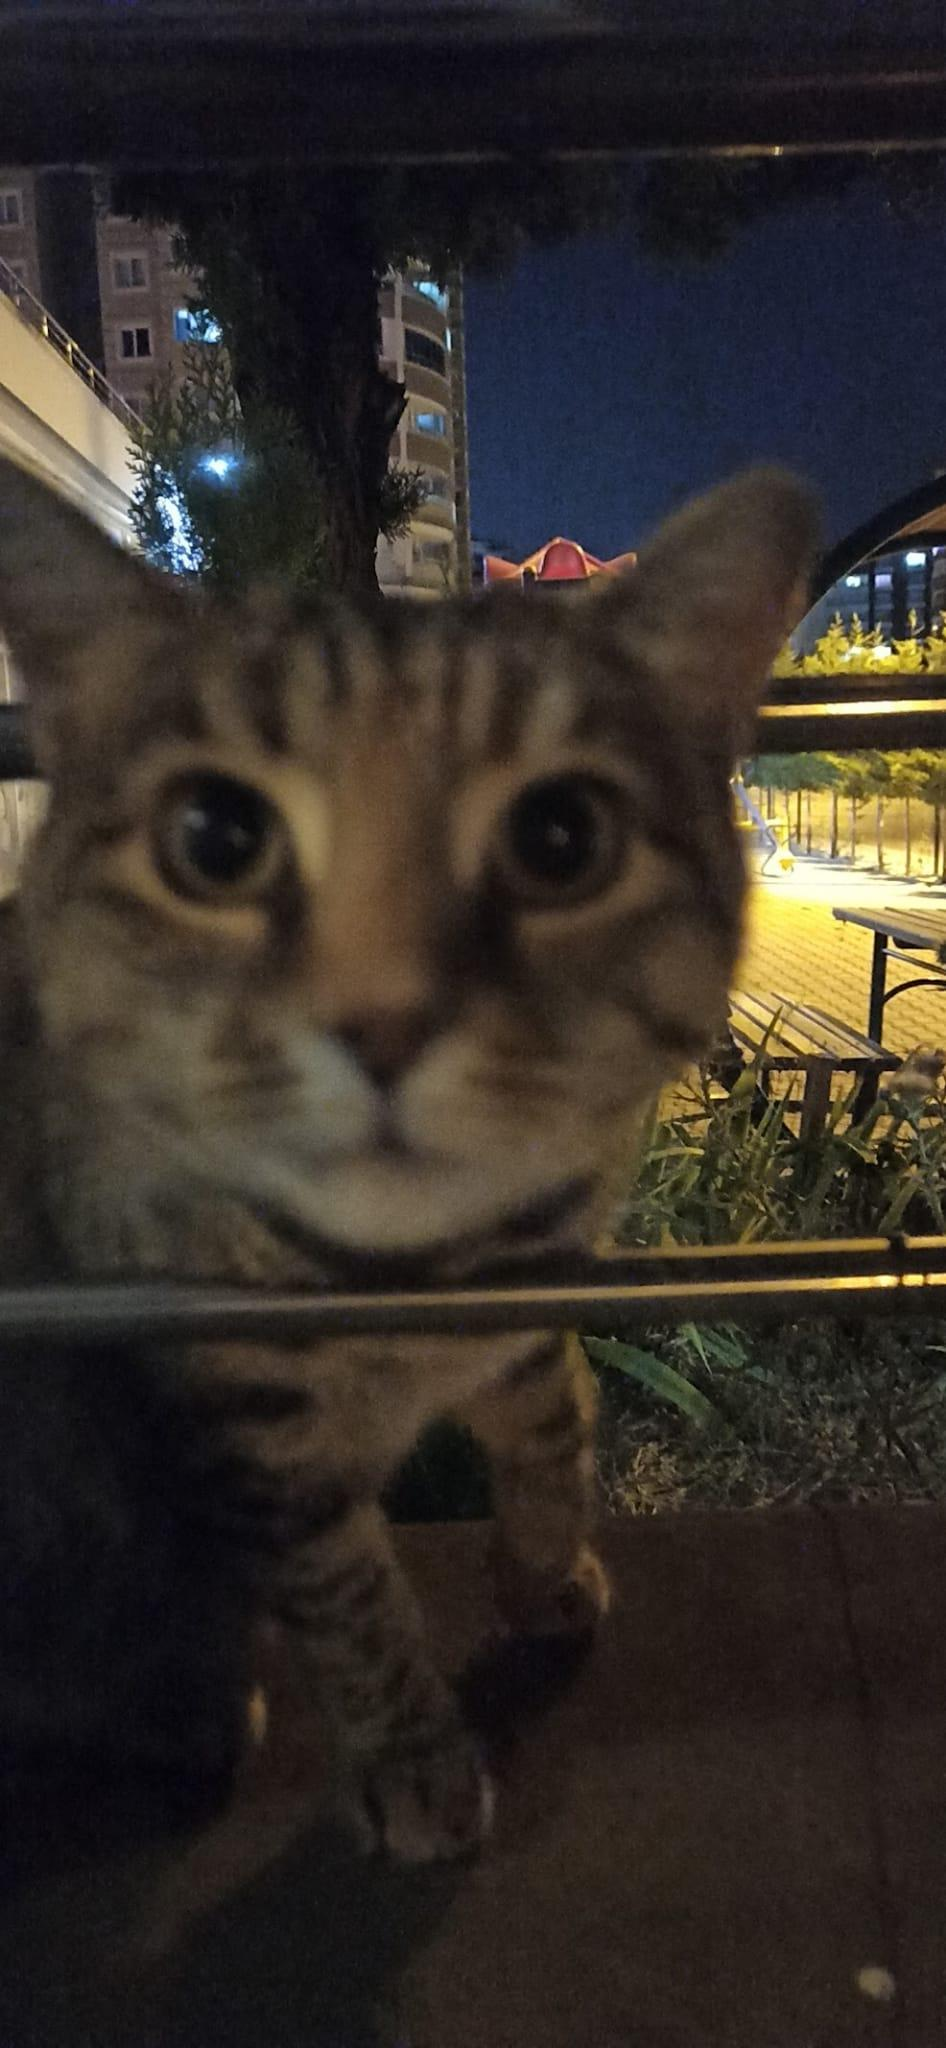kedo: (13, 455, 823, 1247)
